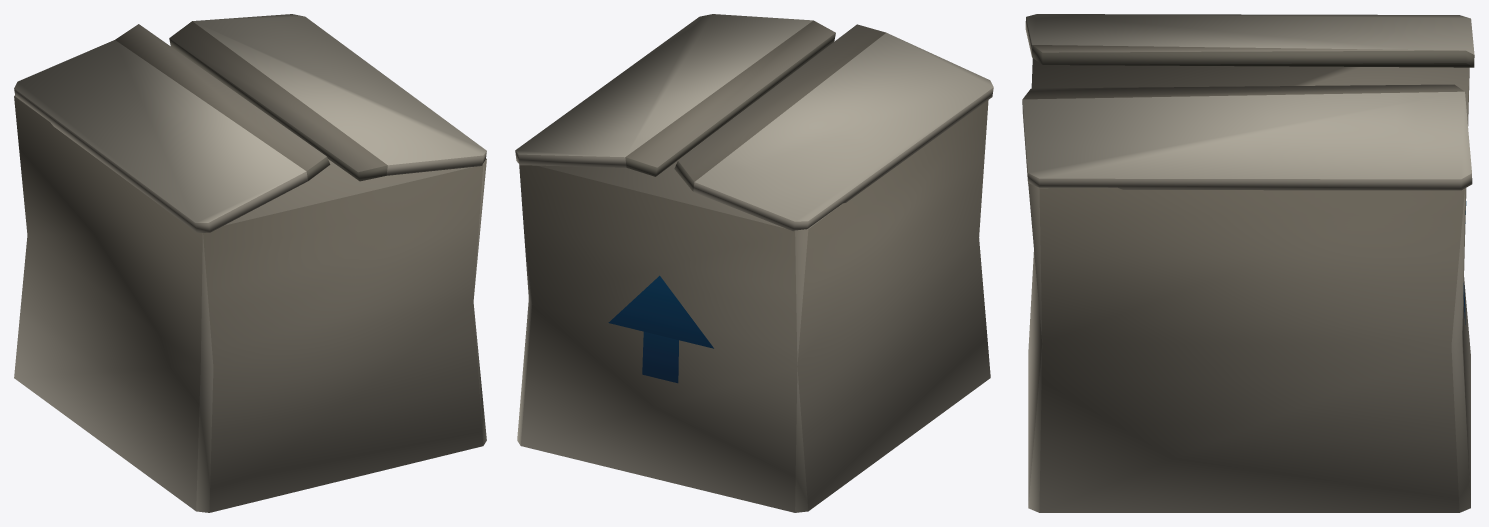
Rendered from Paper_Pack_2A.fbx.
3 renders of one model, left to right at view 1: azimuth 30°, elevation 25°; view 2: azimuth 150°, elevation 25°; view 3: azimuth 270°, elevation 25°, orthographic. The views are drawn at different scales.
Visible parts, largest first — view 1: Paper_Pack_2A; view 2: Paper_Pack_2A; view 3: Paper_Pack_2A.
Boxes of the visible parts, box(x1,y1,x2,y2) form: Paper_Pack_2A: box(14, 14, 486, 512); Paper_Pack_2A: box(515, 14, 993, 512); Paper_Pack_2A: box(1022, 14, 1474, 512).
Bounding box in the file's own units: 106 × 111 × 123.
